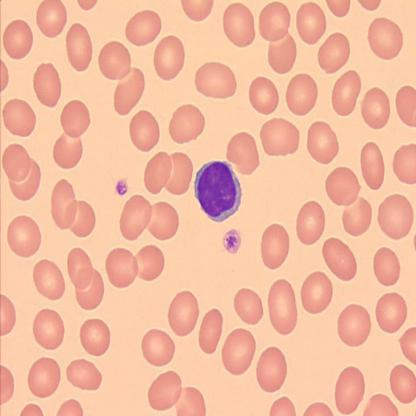Lymphocyte: (193, 160, 243, 224)
